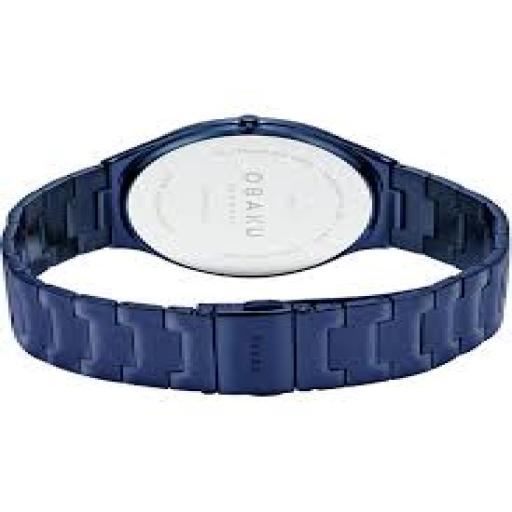KolSaati: (0, 79, 512, 437)
